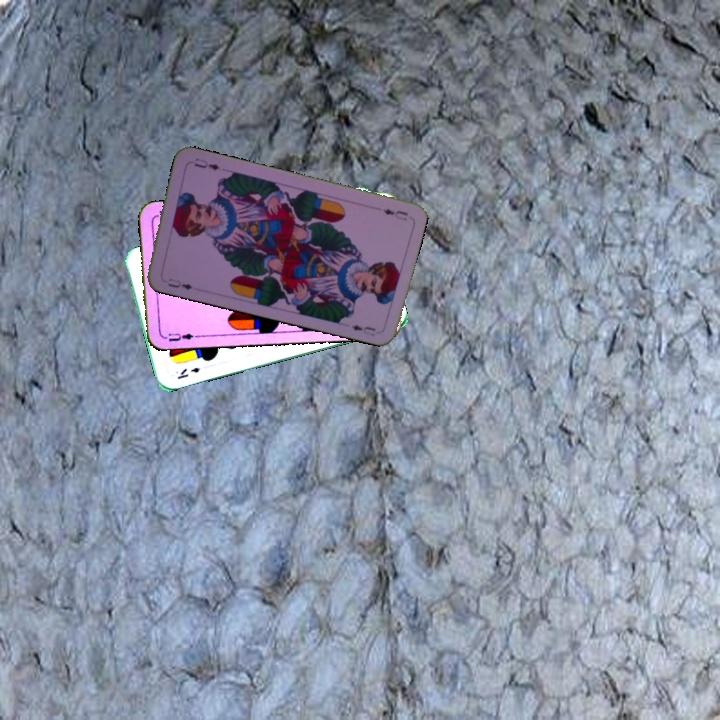EK: (173, 363, 202, 382)
EU: (159, 329, 200, 344), (164, 274, 195, 293), (379, 204, 410, 223)
